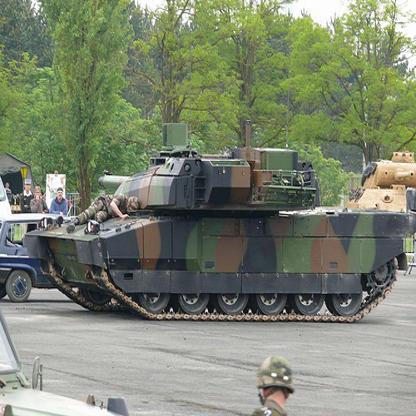Tank: (27, 138, 416, 329)
